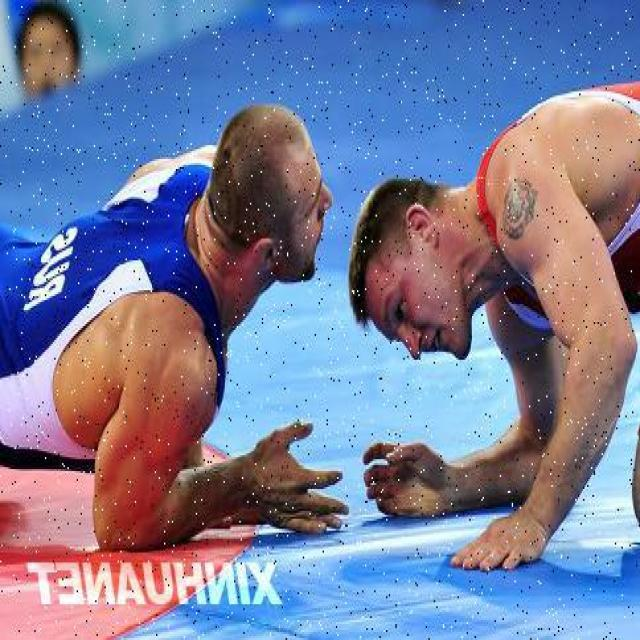fall: (1, 120, 322, 552)
